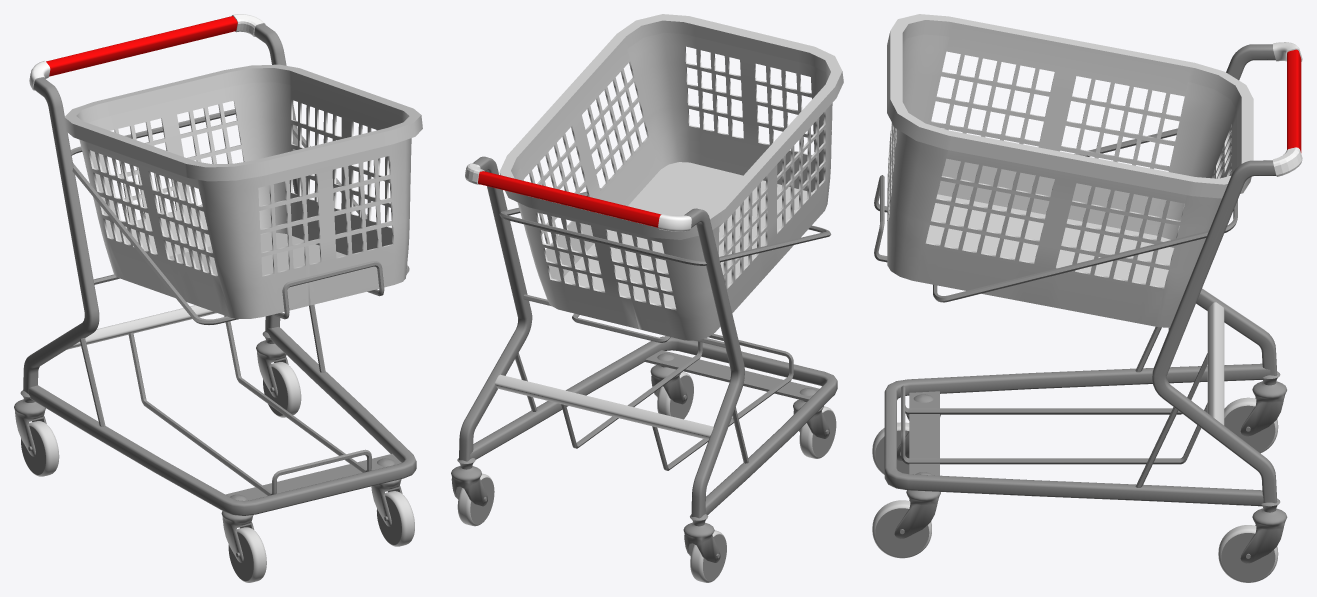
File: Cart_Basket.FBX
3 views of the same model, side by side, from view 1: azimuth 30°, elevation 25°; view 2: azimuth 150°, elevation 25°; view 3: azimuth 270°, elevation 25° (orthographic). The views are drawn at different scales.
Visible parts, largest first — view 1: Basket, Iron, Handle, Wheel003, Wheel002, Wheel001, Iron1, Wheel004; view 2: Basket, Iron, Handle, Iron1; view 3: Basket, Iron, Handle, Iron1, Wheel004, Wheel002.
Boxes of the visible parts, <box> form: Basket: <box>64,64,422,318</box>; Iron: <box>14,24,416,581</box>; Handle: <box>46,16,237,76</box>; Wheel003: <box>236,527,266,582</box>; Wheel002: <box>376,491,414,546</box>; Wheel001: <box>26,421,59,476</box>; Iron1: <box>29,14,265,90</box>; Wheel004: <box>271,362,301,417</box>; Basket: <box>499,14,843,340</box>; Iron: <box>451,156,837,581</box>; Handle: <box>478,171,661,227</box>; Iron1: <box>465,163,691,231</box>; Basket: <box>887,14,1253,327</box>; Iron: <box>874,44,1287,581</box>; Handle: <box>1287,49,1301,152</box>; Iron1: <box>1273,42,1302,176</box>; Wheel004: <box>1218,525,1278,582</box>; Wheel002: <box>872,500,931,558</box>.
Bounding box in the file's own units: 54.6 × 81.28 × 70.06.
